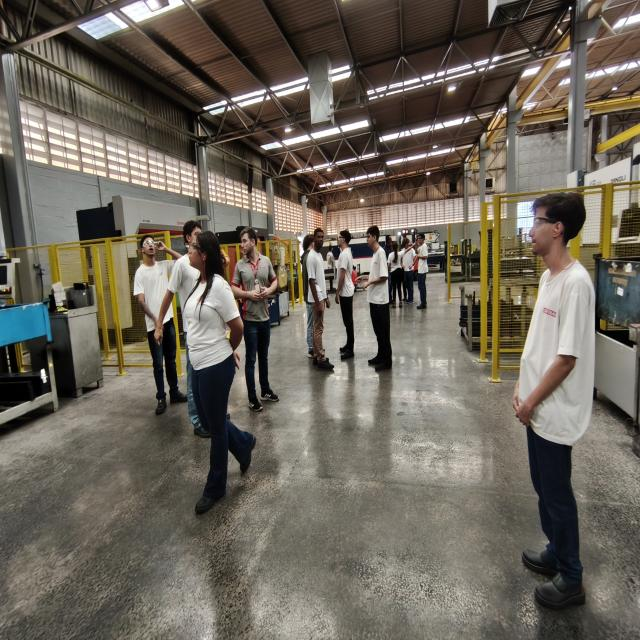oculos-epi: (188, 242, 204, 253), (142, 238, 156, 247), (339, 236, 345, 239)
sem_oculos: (241, 237, 255, 245), (314, 234, 325, 240), (367, 235, 378, 239), (388, 238, 393, 241), (405, 242, 410, 244)
